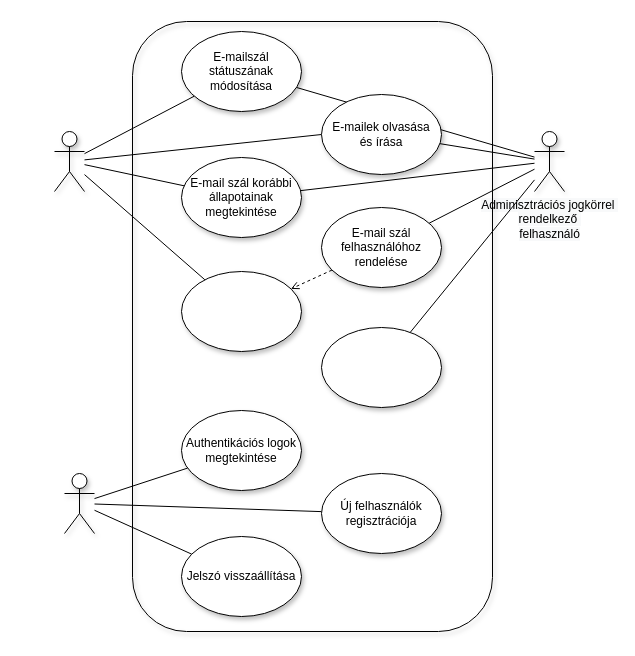
This 635x656 diagram has some shape labels left out. Each missing label, with the centre of its shape:
"E-mailszál másik sorhoz rendelése" goes at point 382,368.
"Konfigurációs jogkörrel rendelkező felhasználó" goes at point 80,504.
"Saját e-mail szál máshoz rendelése" goes at point 242,312.
"Átlagos felhasználó" goes at point 70,162.
